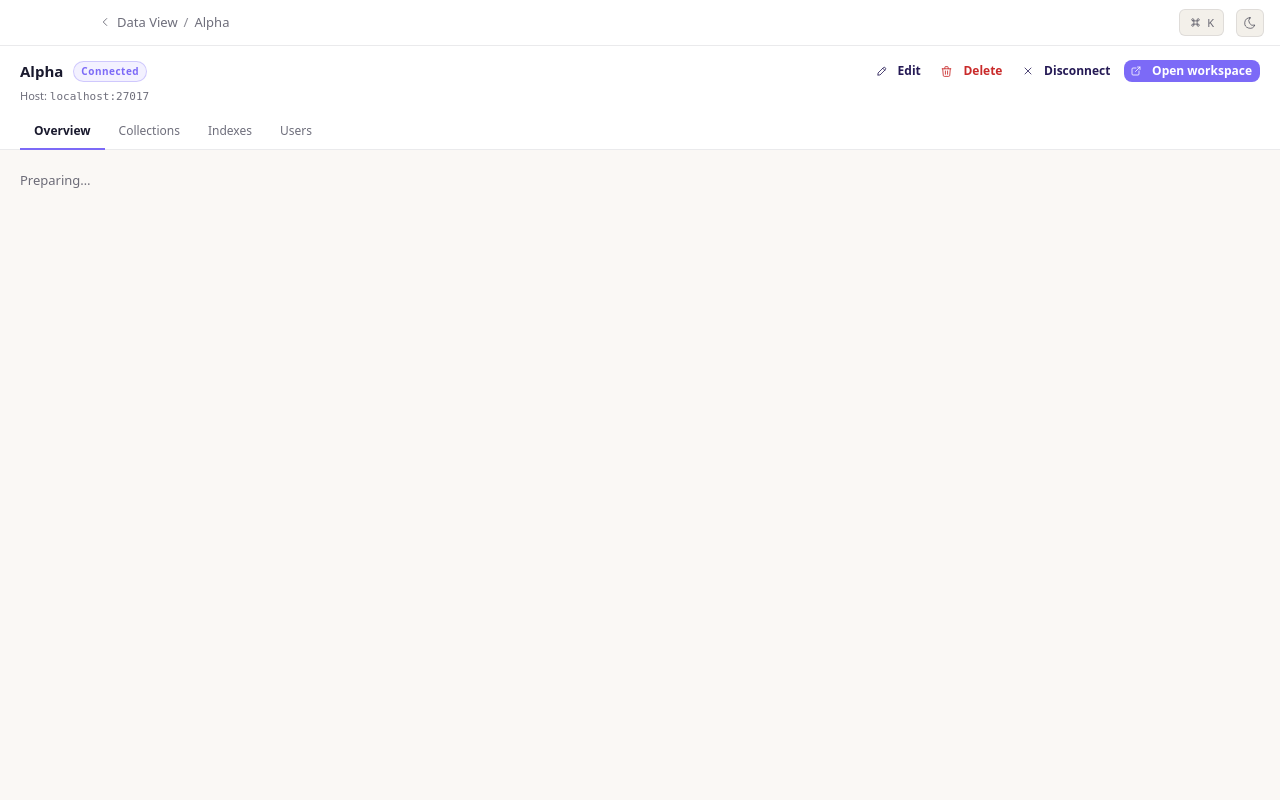
Test: ConnectionManager deep detail screen › the Disconnect button opens a confirmation naming the Connection and its tab count, before disconnecting anything
Click the button "Disconnect". click: point(1067, 71)
box: [1016,60,1118,82]
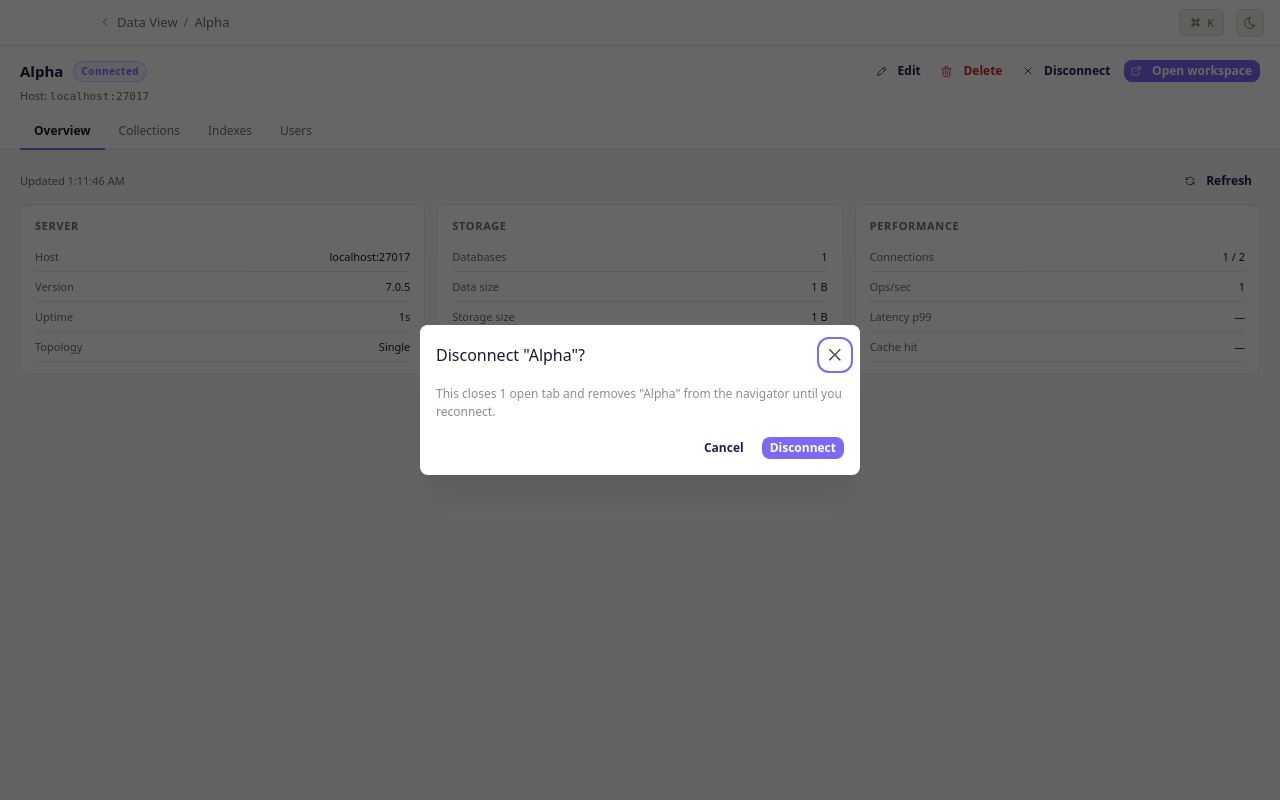
Expected: the heading "Disconnect \"Alpha\"?" is shown, [436,347,585,363]
